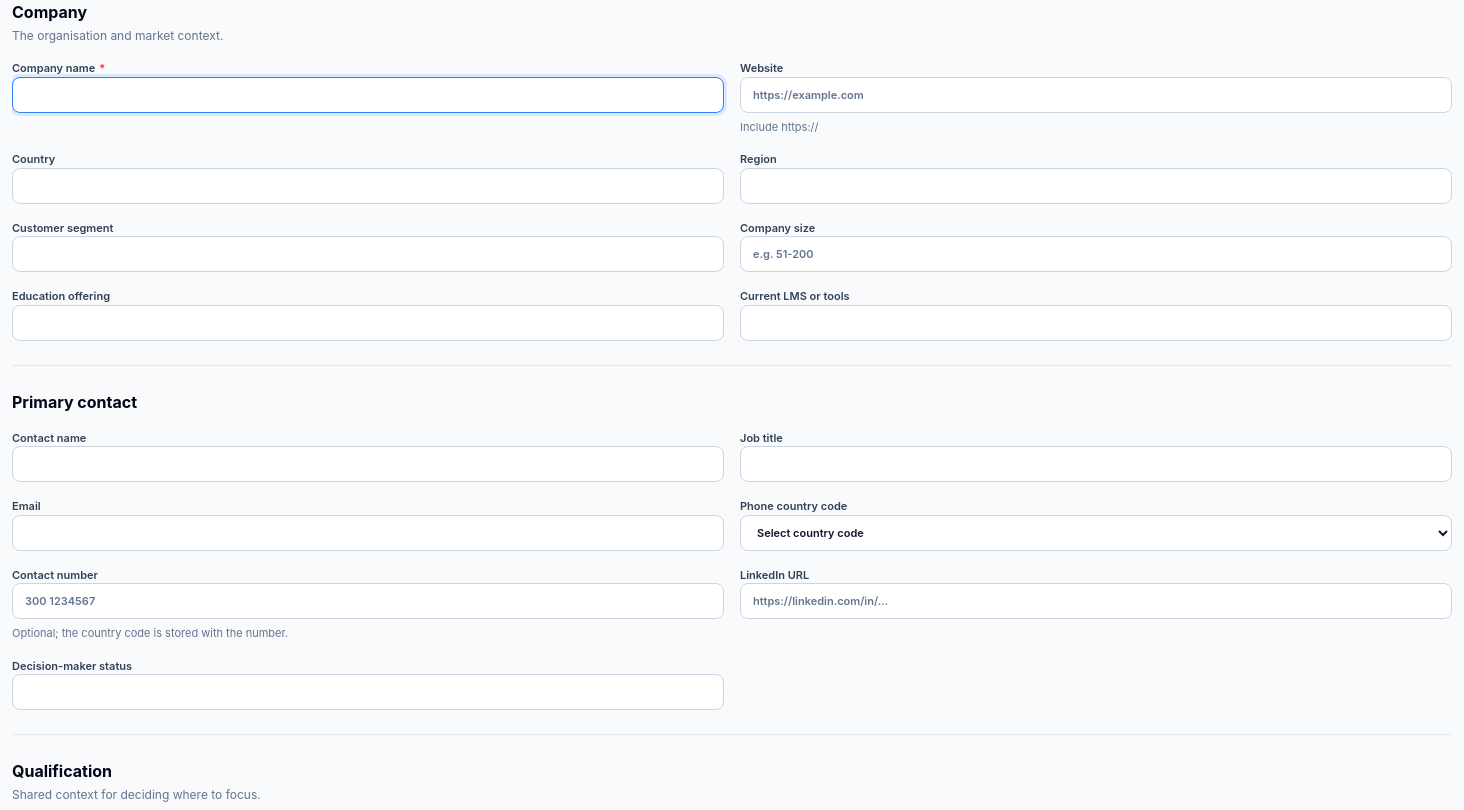
it: lead form › keeps entered values in the form after a network save failure
The image size is (1464, 810).
Type "Unsaved Northstar" into the field labelled "Company name*" at (368, 94), box x1=12 y1=76 x2=724 y2=112
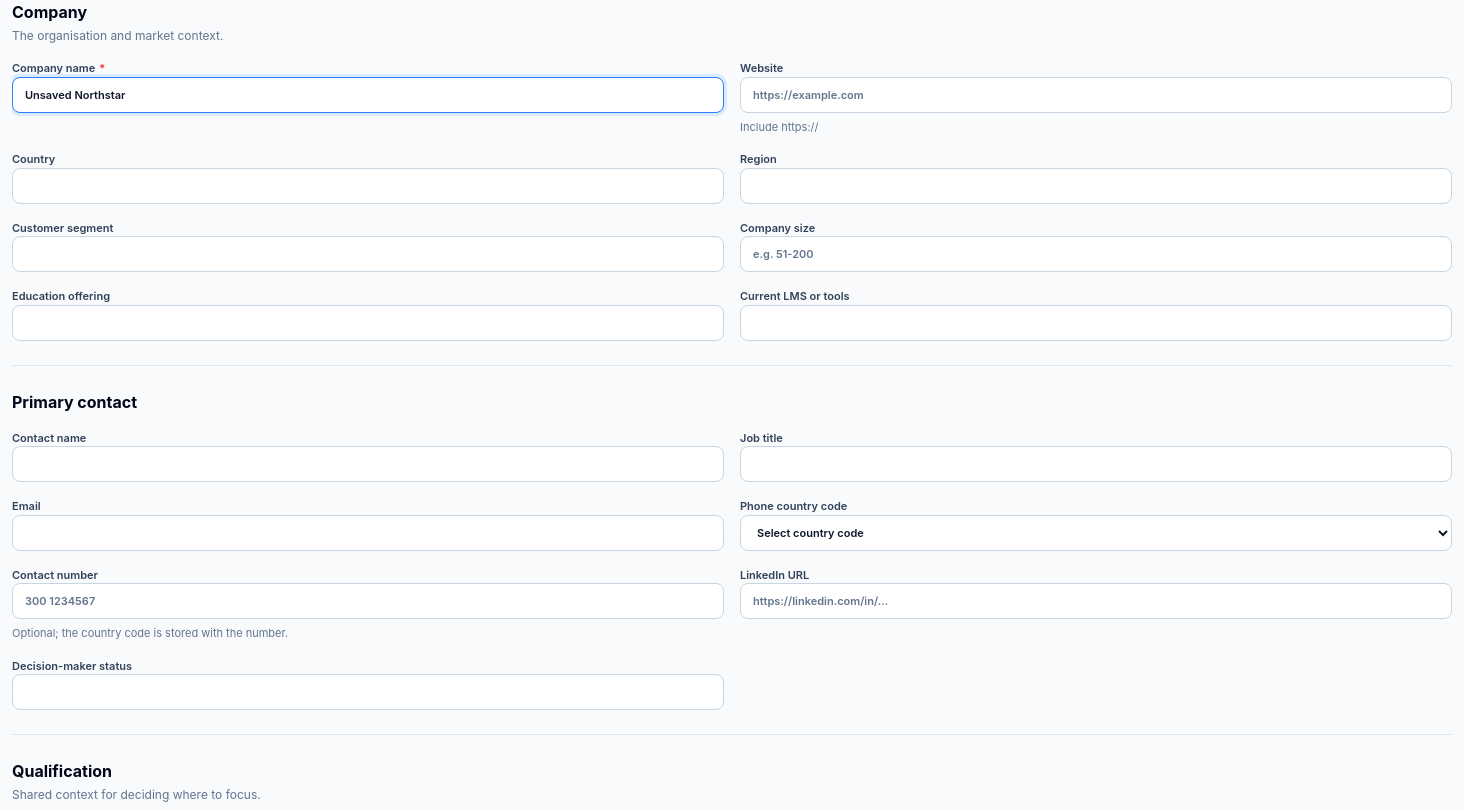
Type "https://northstar.example" into the field labelled "Website Include https://" at (1096, 94), box x1=740 y1=76 x2=1452 y2=112
(page scrolled)
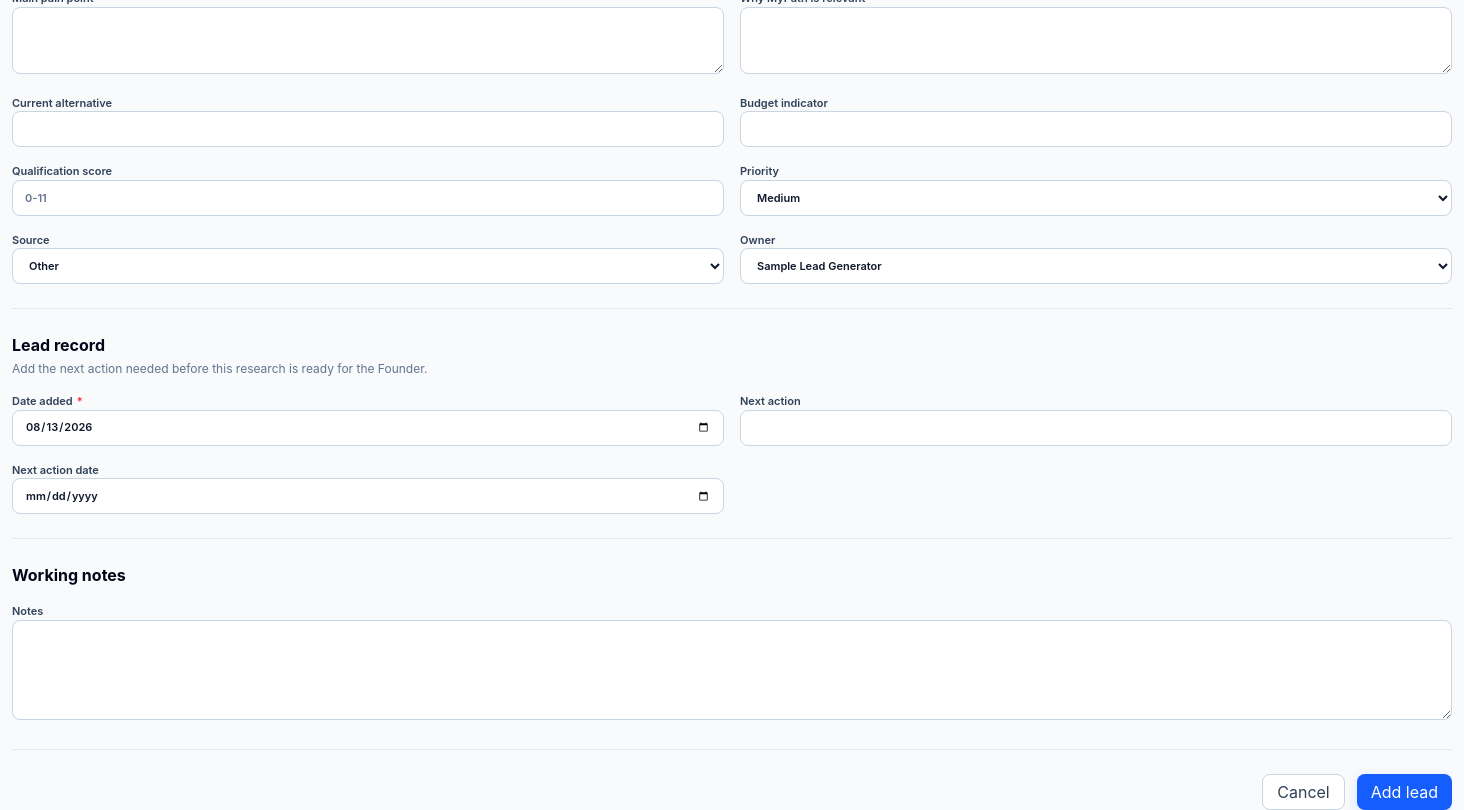
Click the button "Add lead" at (1404, 792), box x1=1357 y1=774 x2=1452 y2=809
(page scrolled)
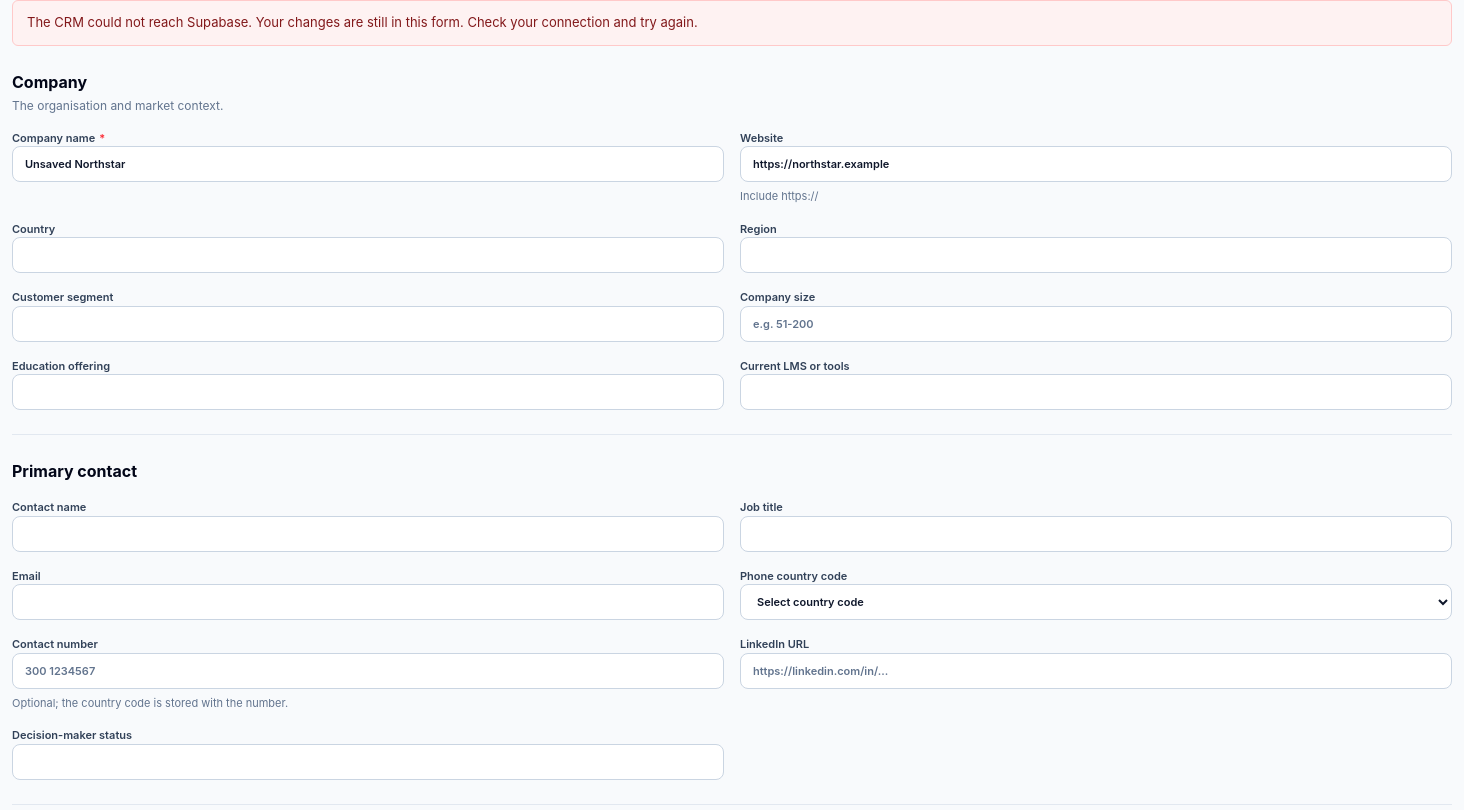
Expected: the text "Your changes are still in this form" is shown, x1=27 y1=14 x2=698 y2=30
